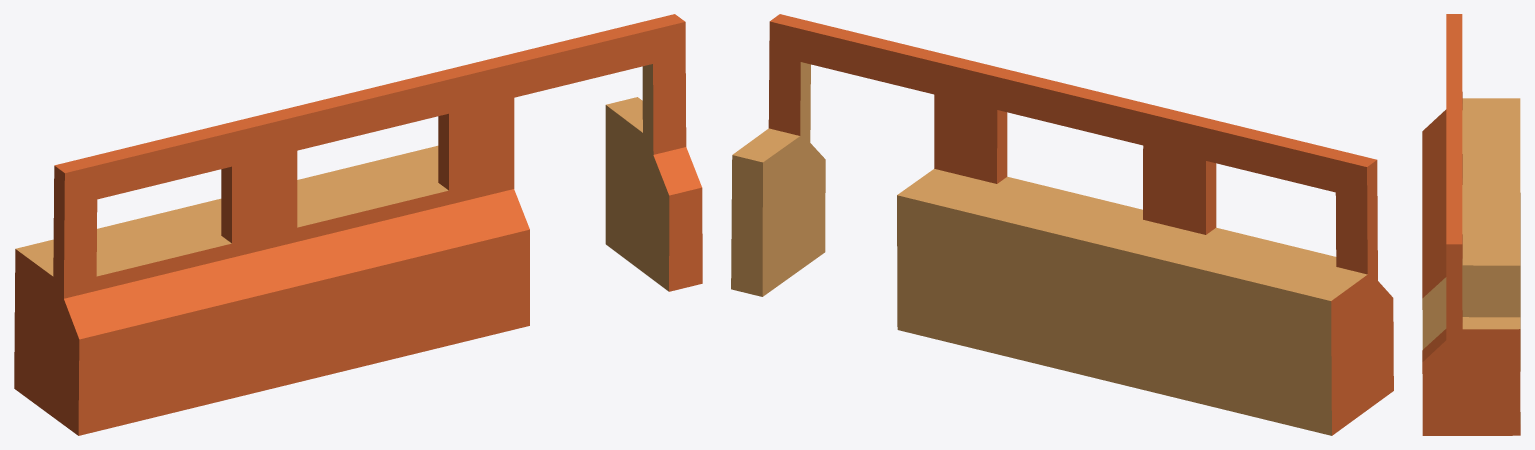
File: level 1 masked desk.fbx
3 views of the same model, side by side, from view 1: azimuth 30°, elevation 25°; view 2: azimuth 150°, elevation 25°; view 3: azimuth 270°, elevation 25° (orthographic). The views are drawn at different scales.
Parts seen in each view (by area): view 1: Desk Mask; view 2: Desk Mask; view 3: Desk Mask.
Part boxes in pixels (x1,y1,x2,y2): Desk Mask: [14, 14, 702, 435]; Desk Mask: [731, 14, 1393, 435]; Desk Mask: [1422, 14, 1520, 435].
Size of the model in its own units: 975 by 374 by 174.
